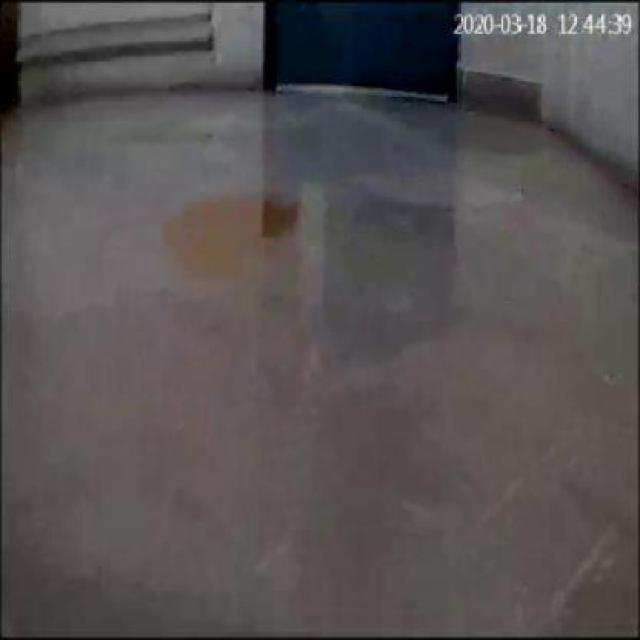spillage: (165, 194, 298, 272)
